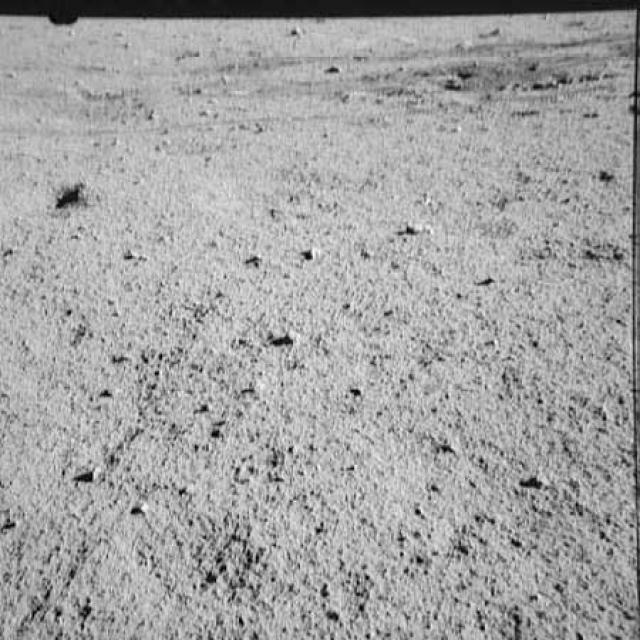crater: (364, 54, 605, 96)
